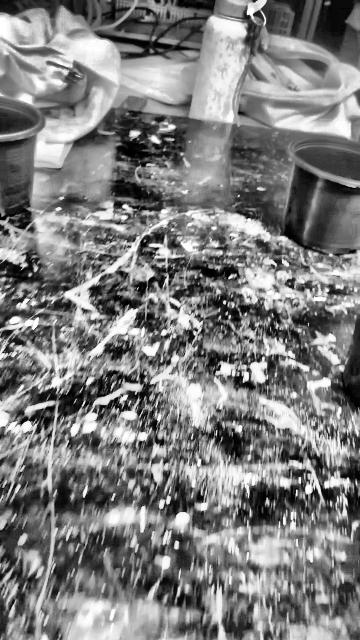pot: (285, 135, 360, 256), (0, 97, 44, 217)
